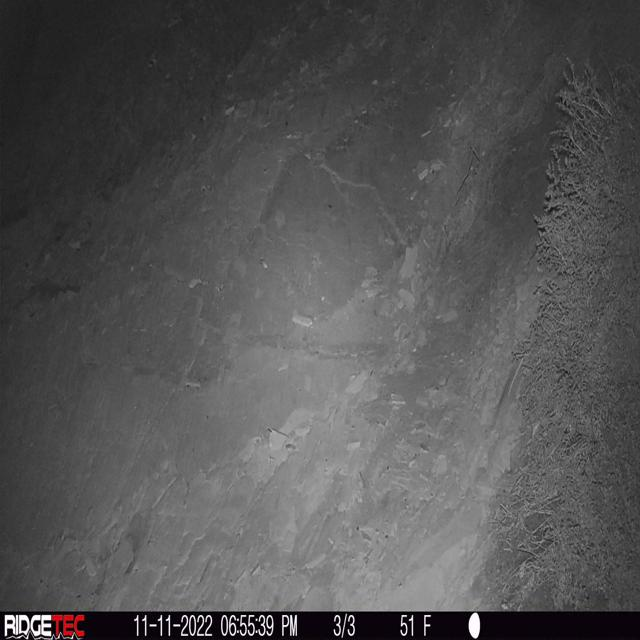rodent: (478, 340, 531, 430)
